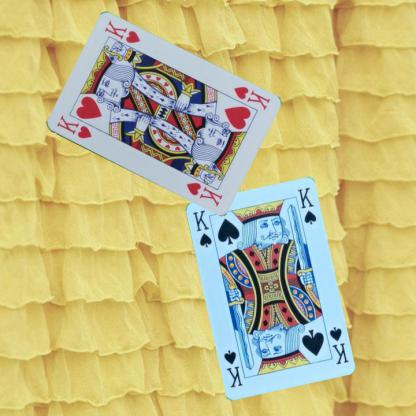Kh: (231, 84, 271, 112), (54, 114, 93, 140)
Ks: (326, 324, 350, 366), (190, 207, 213, 248)
